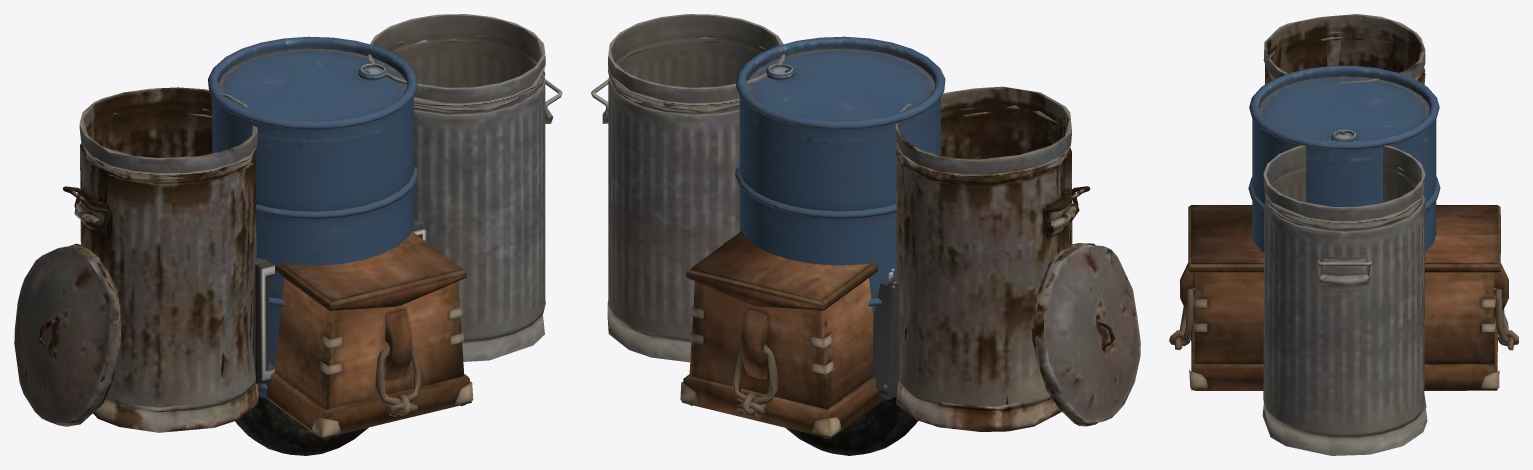
File: yard-small.glb
3 renders of one model, left to right at view 1: azimuth 30°, elevation 25°; view 2: azimuth 150°, elevation 25°; view 3: azimuth 270°, elevation 25°, orthographic. The views are drawn at different scales.
Visible parts, largest first — view 1: metal_trash_can_rust, metal_trash_can, barrel, wooden_crate_02_crate, metal_trash_can_rust_lid, wooden_crate_02_lid, old_tyre, Television_01; view 2: metal_trash_can_rust, metal_trash_can, barrel, wooden_crate_02_crate, metal_trash_can_rust_lid, wooden_crate_02_lid, old_tyre, Television_01; view 3: metal_trash_can, barrel, wooden_crate_02_crate, wooden_crate_02_lid, metal_trash_can_rust.
Part boxes in pixels (<box>): metal_trash_can_rust: <box>74,87,259,432</box>; metal_trash_can: <box>368,14,553,361</box>; barrel: <box>208,36,418,398</box>; wooden_crate_02_crate: <box>266,278,473,438</box>; metal_trash_can_rust_lid: <box>14,243,121,426</box>; wooden_crate_02_lid: <box>275,231,467,310</box>; old_tyre: <box>235,396,368,455</box>; Television_01: <box>252,219,426,391</box>; metal_trash_can_rust: <box>895,86,1079,431</box>; metal_trash_can: <box>602,14,784,362</box>; barrel: <box>735,36,945,317</box>; wooden_crate_02_crate: <box>680,278,884,438</box>; metal_trash_can_rust_lid: <box>1032,243,1140,426</box>; wooden_crate_02_lid: <box>686,231,877,310</box>; old_tyre: <box>786,396,917,455</box>; Television_01: <box>724,241,899,399</box>; metal_trash_can: <box>1262,140,1427,455</box>; barrel: <box>1248,65,1440,252</box>; wooden_crate_02_crate: <box>1169,263,1518,390</box>; wooden_crate_02_lid: <box>1188,205,1500,272</box>; metal_trash_can_rust: <box>1263,14,1425,84</box>.
Size of the model in its own units: 1.78 by 1.23 by 1.16.
11 materials, 11 textured.
